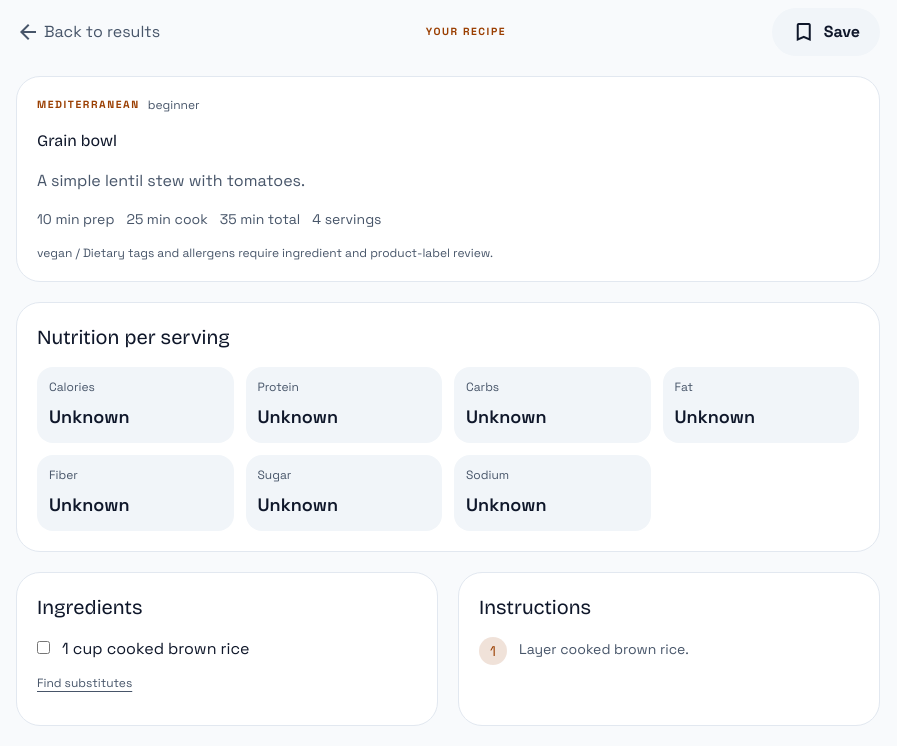
Detail ingredient action opens substitutions without mutating recipe
This screenshot has width=897, height=746.
What coordinates should you click on to do the following:
click the button with aria-label "Find substitutes for cooked brown rice"
I would click on:
 (85, 683)
Its box is [37, 661, 132, 705].
(page scrolled)
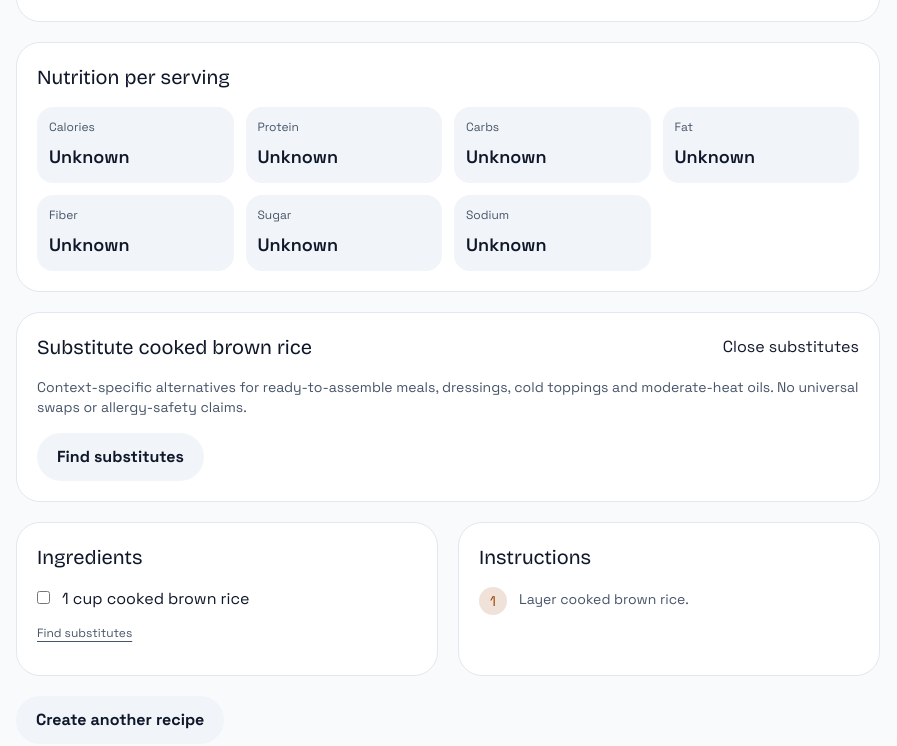
Now the element named "Ingredient substitutions" is shown, box [16, 312, 880, 502]
